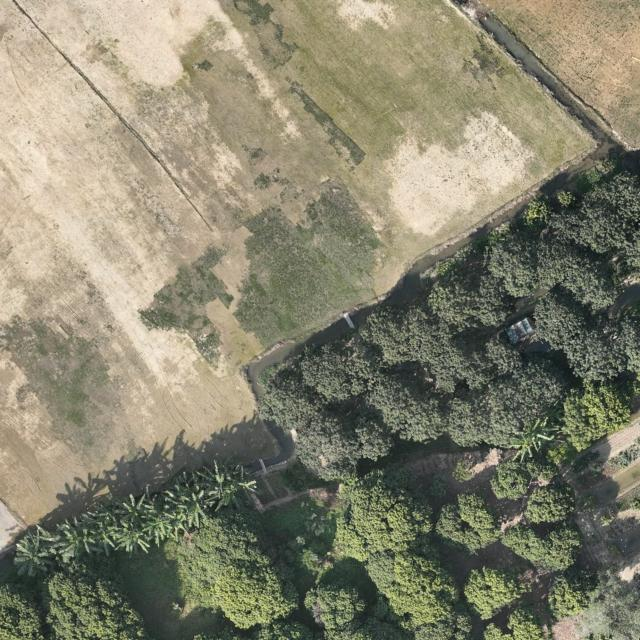Tree: (188, 507, 299, 632), (447, 355, 569, 452), (329, 463, 434, 562), (364, 548, 474, 640), (45, 567, 158, 640), (544, 170, 640, 253), (293, 412, 393, 482), (360, 307, 464, 368), (366, 371, 447, 444), (542, 237, 619, 312), (478, 230, 563, 296), (560, 376, 633, 450), (433, 489, 503, 555), (302, 340, 377, 400), (500, 522, 582, 574), (462, 564, 533, 622), (250, 378, 325, 430), (302, 580, 366, 632), (533, 291, 589, 350), (563, 332, 629, 380), (482, 599, 555, 640), (523, 479, 576, 526), (489, 457, 543, 500), (546, 576, 589, 622)
